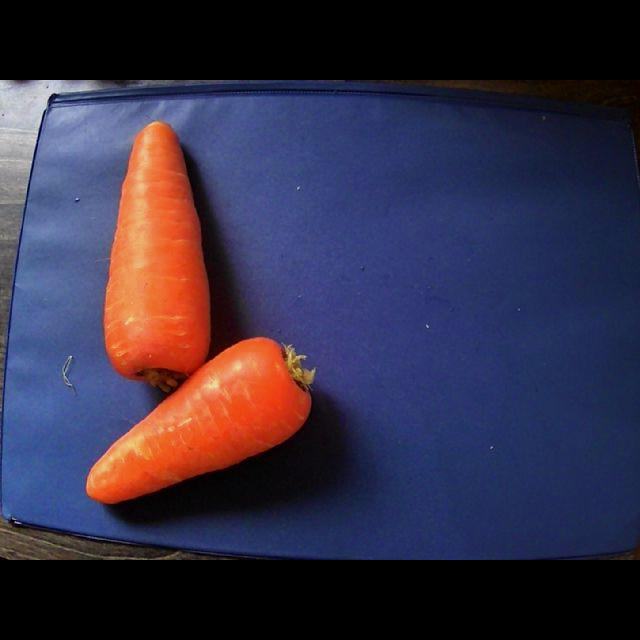zanahoria: (88, 337, 315, 503), (104, 121, 211, 391)
